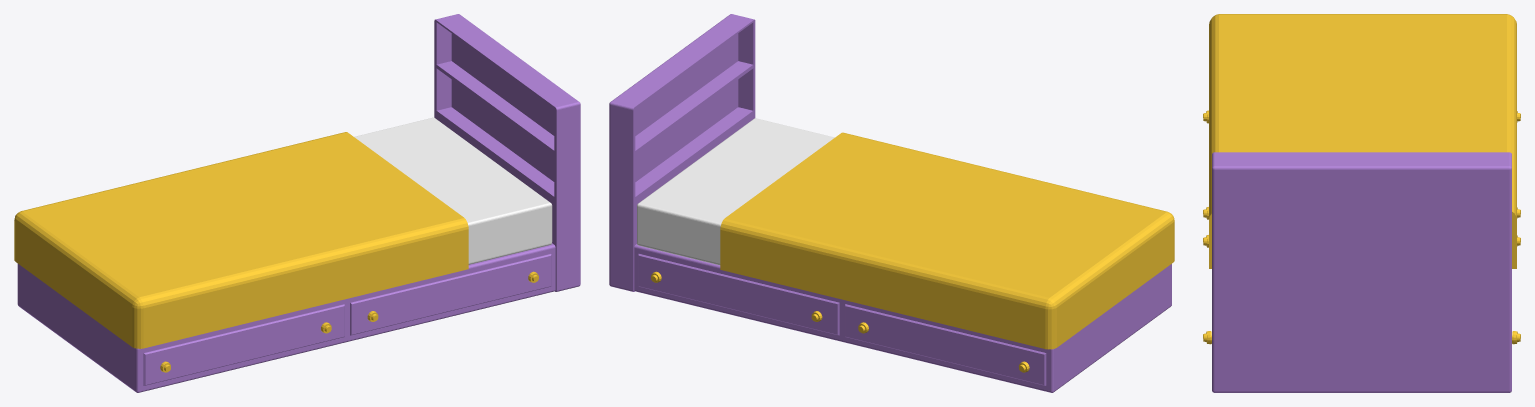
The model's file is Single Bed_6.fbx.
3 views of the same model, side by side, from view 1: azimuth 30°, elevation 25°; view 2: azimuth 150°, elevation 25°; view 3: azimuth 270°, elevation 25° (orthographic). The views are drawn at different scales.
Visible parts, largest first — view 1: Single Bed_6; view 2: Single Bed_6; view 3: Single Bed_6.
Part boxes in pixels (x1,y1,x2,y2): Single Bed_6: (14,14,580,392); Single Bed_6: (609,14,1174,392); Single Bed_6: (1203,14,1520,392).
Size of the model in its own units: 2.6 by 1.03 by 1.3.
